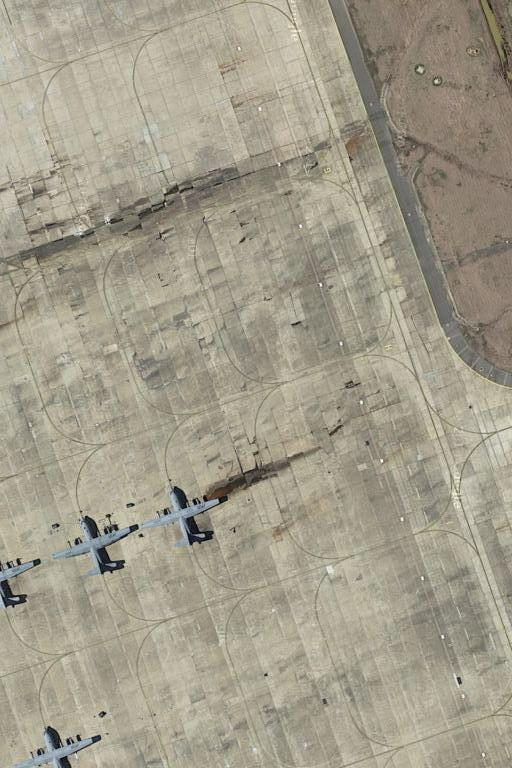C-130: (56, 511, 136, 583), (142, 483, 223, 554)
